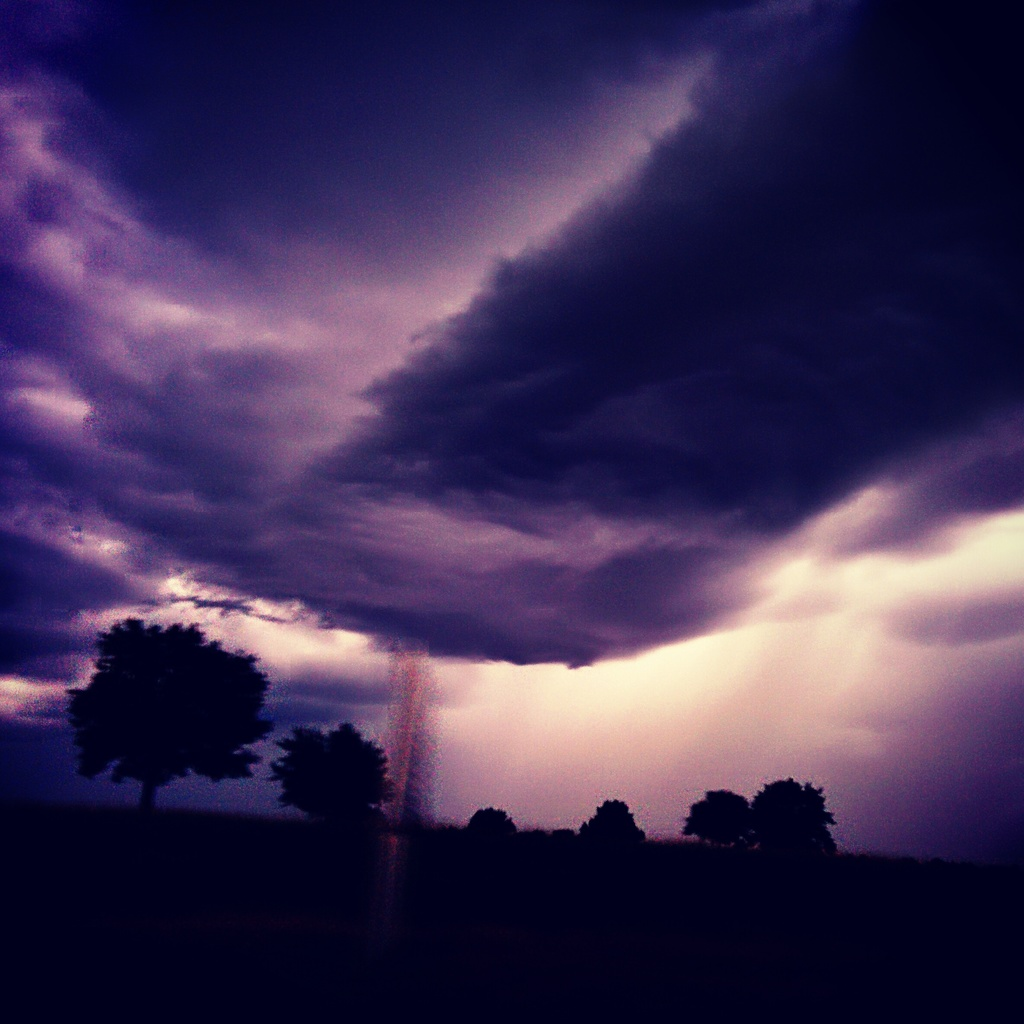Tree: (62, 612, 272, 807), (264, 723, 398, 824), (749, 776, 836, 857), (682, 791, 754, 848), (579, 796, 644, 845), (467, 807, 518, 837)
